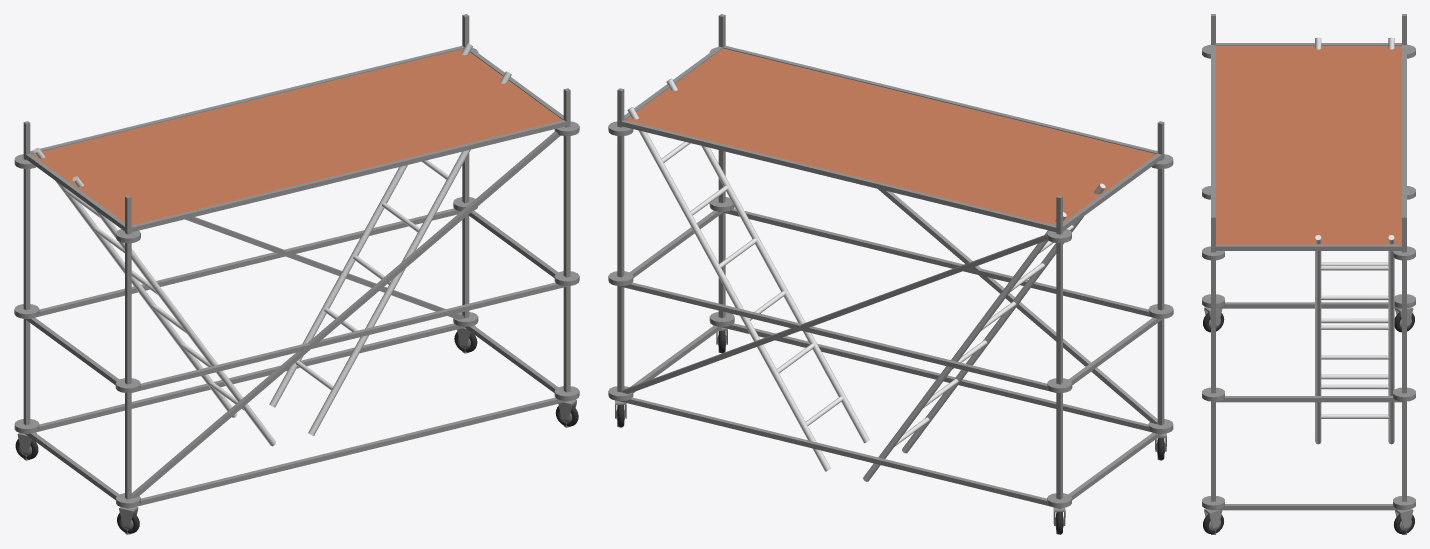
The model's file is 53-les_v2.glb.
3 views of the same model, side by side, from view 1: azimuth 30°, elevation 25°; view 2: azimuth 150°, elevation 25°; view 3: azimuth 270°, elevation 25° (orthographic). The views are drawn at different scales.
Visible parts, largest first — view 1: verh0_, Box033, Box024, Box017, Box041, Box040, Box016, Box028, Cylinder020, Box053, Cylinder018, Box032 (+18 smaller); view 2: verh0_, Box023, Box016, Box040, Box041, Box032, Box017, Box033, Box054, Cylinder020, Box053, Cylinder042 (+16 smaller); view 3: verh0_, Box025, Box027, Box028, Box045, Box021, Box022, Box052, Box051, Cylinder020, Cylinder018, Box023 (+17 smaller).
Boxes of the visible parts, bbox=[...] form: verh0_: bbox=[31, 48, 562, 224]; Box033: bbox=[131, 131, 560, 497]; Box024: bbox=[129, 120, 568, 232]; Box017: bbox=[138, 397, 568, 506]; Box041: bbox=[138, 282, 566, 391]; Box040: bbox=[36, 208, 460, 317]; Box016: bbox=[37, 323, 464, 431]; Box028: bbox=[563, 94, 570, 392]; Cylinder020: bbox=[308, 73, 511, 435]; Box053: bbox=[23, 121, 30, 460]; Cylinder018: bbox=[269, 43, 471, 407]; Box032: bbox=[185, 217, 464, 319]; verh0_: bbox=[625, 48, 1156, 224]; Box023: bbox=[619, 120, 1058, 232]; Box016: bbox=[619, 397, 1049, 506]; Box040: bbox=[620, 282, 1049, 391]; Box041: bbox=[723, 208, 1151, 317]; Box032: bbox=[622, 234, 1047, 393]; Box017: bbox=[723, 323, 1150, 431]; Box033: bbox=[877, 188, 1157, 423]; Box054: bbox=[1157, 121, 1164, 460]; Cylinder020: bbox=[666, 79, 869, 443]; Box053: bbox=[1056, 195, 1062, 534]; Cylinder042: bbox=[627, 107, 830, 471]; verh0_: bbox=[1216, 45, 1401, 244]; Box025: bbox=[1213, 244, 1404, 250]; Box027: bbox=[1402, 222, 1406, 510]; Box028: bbox=[1211, 222, 1215, 510]; Box045: bbox=[1214, 396, 1403, 402]; Box021: bbox=[1214, 504, 1403, 510]; Box022: bbox=[1216, 302, 1401, 308]; Box052: bbox=[1211, 215, 1215, 534]; Box051: bbox=[1402, 215, 1406, 534]; Cylinder020: bbox=[1315, 237, 1321, 444]; Cylinder018: bbox=[1388, 236, 1394, 444]; Box023: bbox=[1402, 45, 1406, 215].
Bounding box in the file's own units: 315 × 221 × 134.
